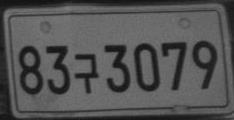0: (133, 42, 161, 92)
3: (104, 44, 131, 93), (46, 44, 70, 95)
7: (161, 41, 187, 90)
8: (18, 45, 43, 95)
9: (191, 39, 218, 89)
구: (74, 52, 99, 94)
